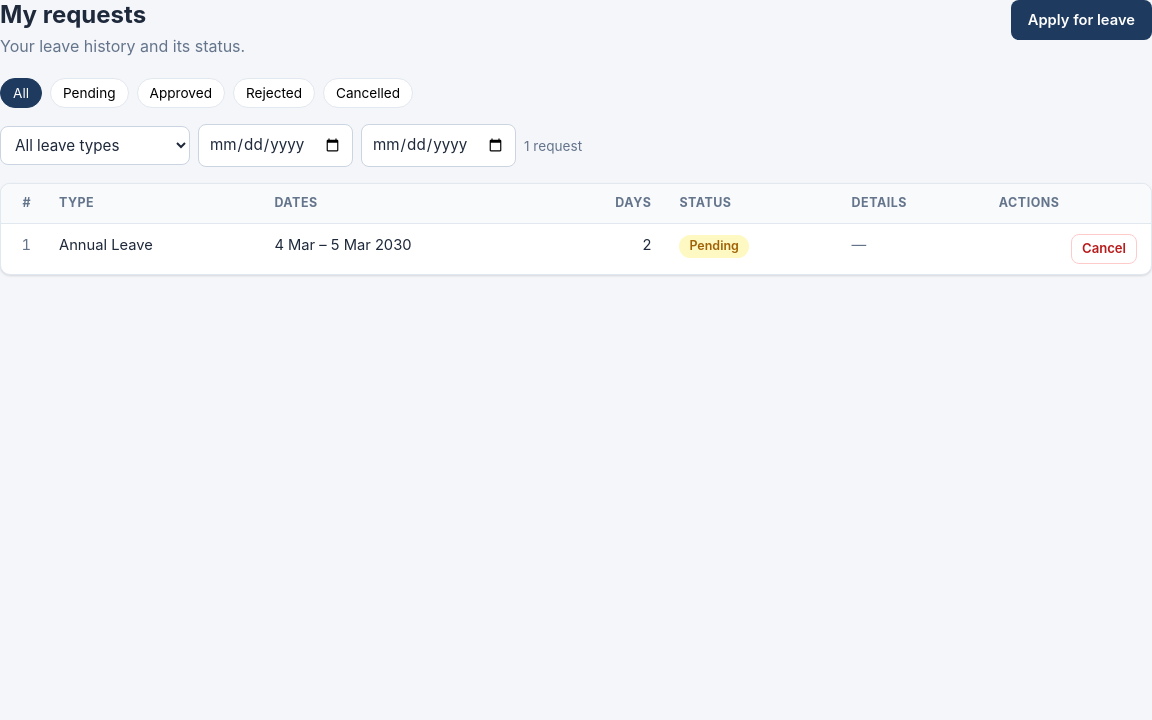
HistoryPage › shows the API error if cancellation is refused
The width and height of the screenshot is (1152, 720).
Click the button "Cancel" at (1104, 249), box [1071, 234, 1137, 264]
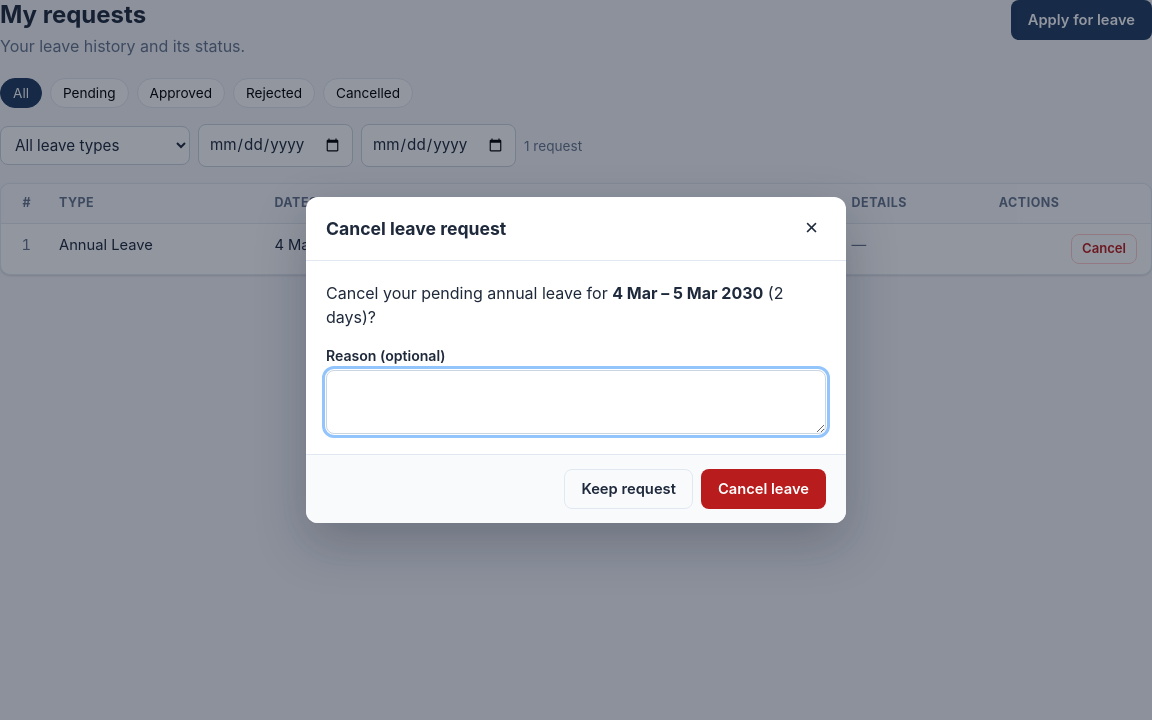
Click the button "Cancel leave" at (763, 489), box [701, 468, 826, 509]
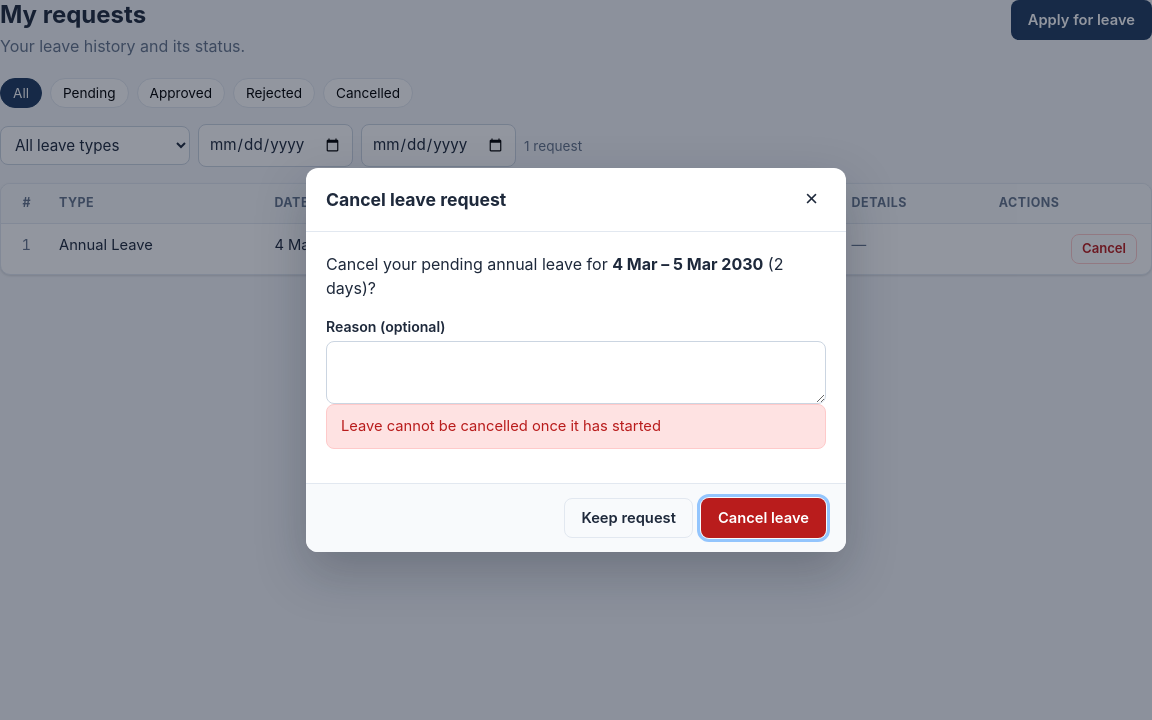
Expected: the text "Leave cannot be cancelled once it has started" is shown, [341, 416, 661, 438]
